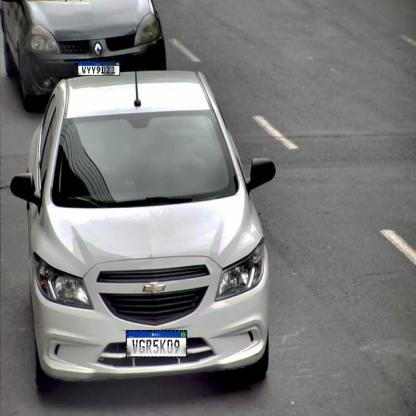PlacaM: (126, 330, 187, 358), (78, 62, 120, 76)
